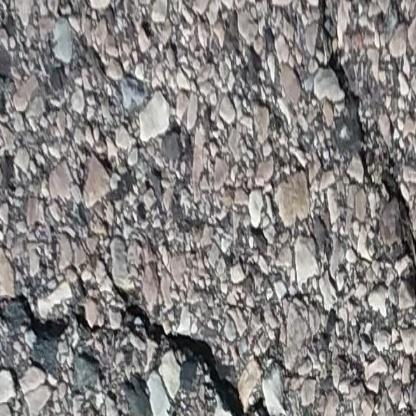Cracks: (313, 0, 416, 394), (93, 244, 292, 416), (0, 263, 122, 415), (405, 396, 416, 416)
